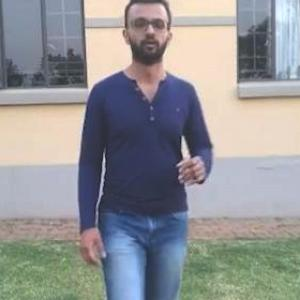follow: (70, 0, 198, 299)
